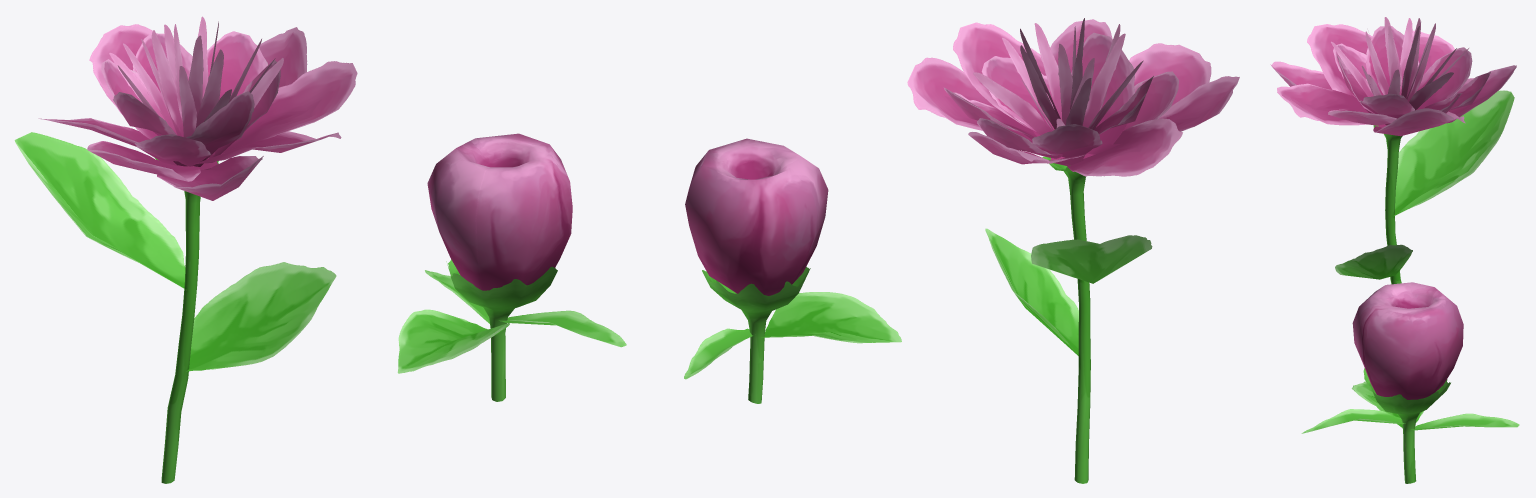
3 renders of one model, left to right at view 1: azimuth 30°, elevation 25°; view 2: azimuth 150°, elevation 25°; view 3: azimuth 270°, elevation 25°, orthographic. The views are drawn at different scales.
Parts seen in each view (by area): view 1: be6b3745; view 2: be6b3745; view 3: be6b3745.
Boxes of the visible parts, x1,y1,x2,y2 form: be6b3745: (14,16,626,483); be6b3745: (684,18,1239,483); be6b3745: (1270,17,1519,483).
Bounding box in the file's own units: 0.1438 × 0.1187 × 0.0792.
1 material, 1 textured.
